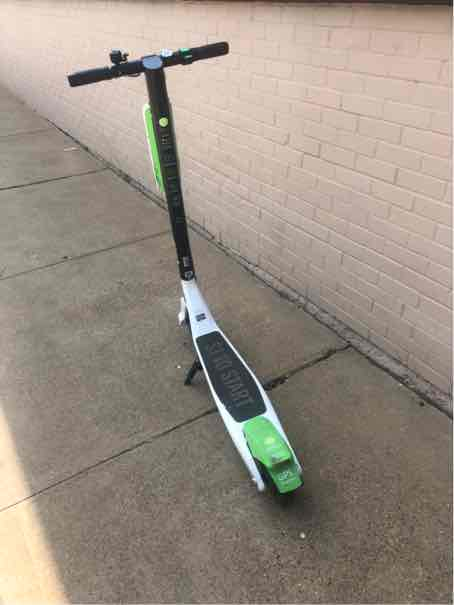scooter: (66, 31, 315, 507)
